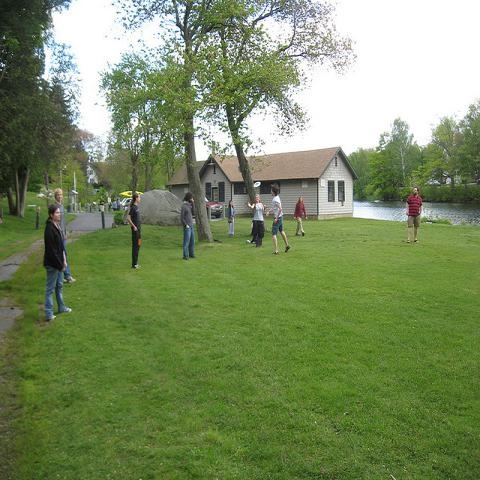car: (122, 197, 133, 211), (424, 179, 442, 187)
